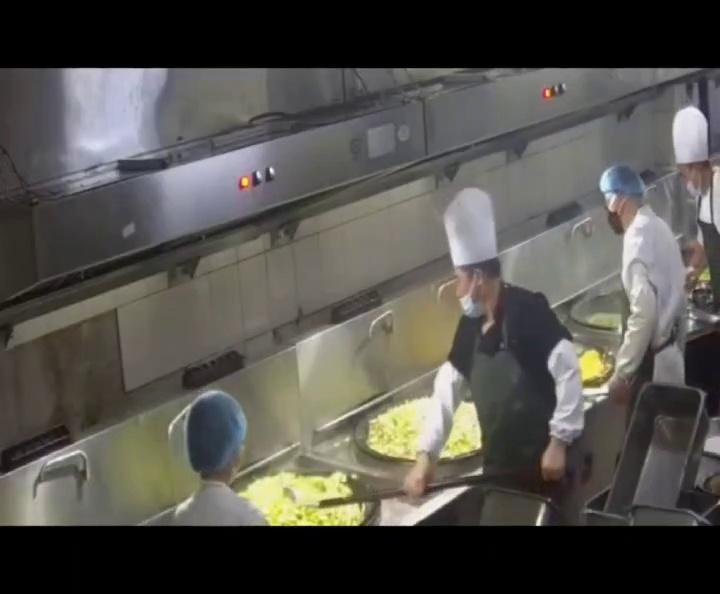hairnet: (450, 271, 499, 323)
